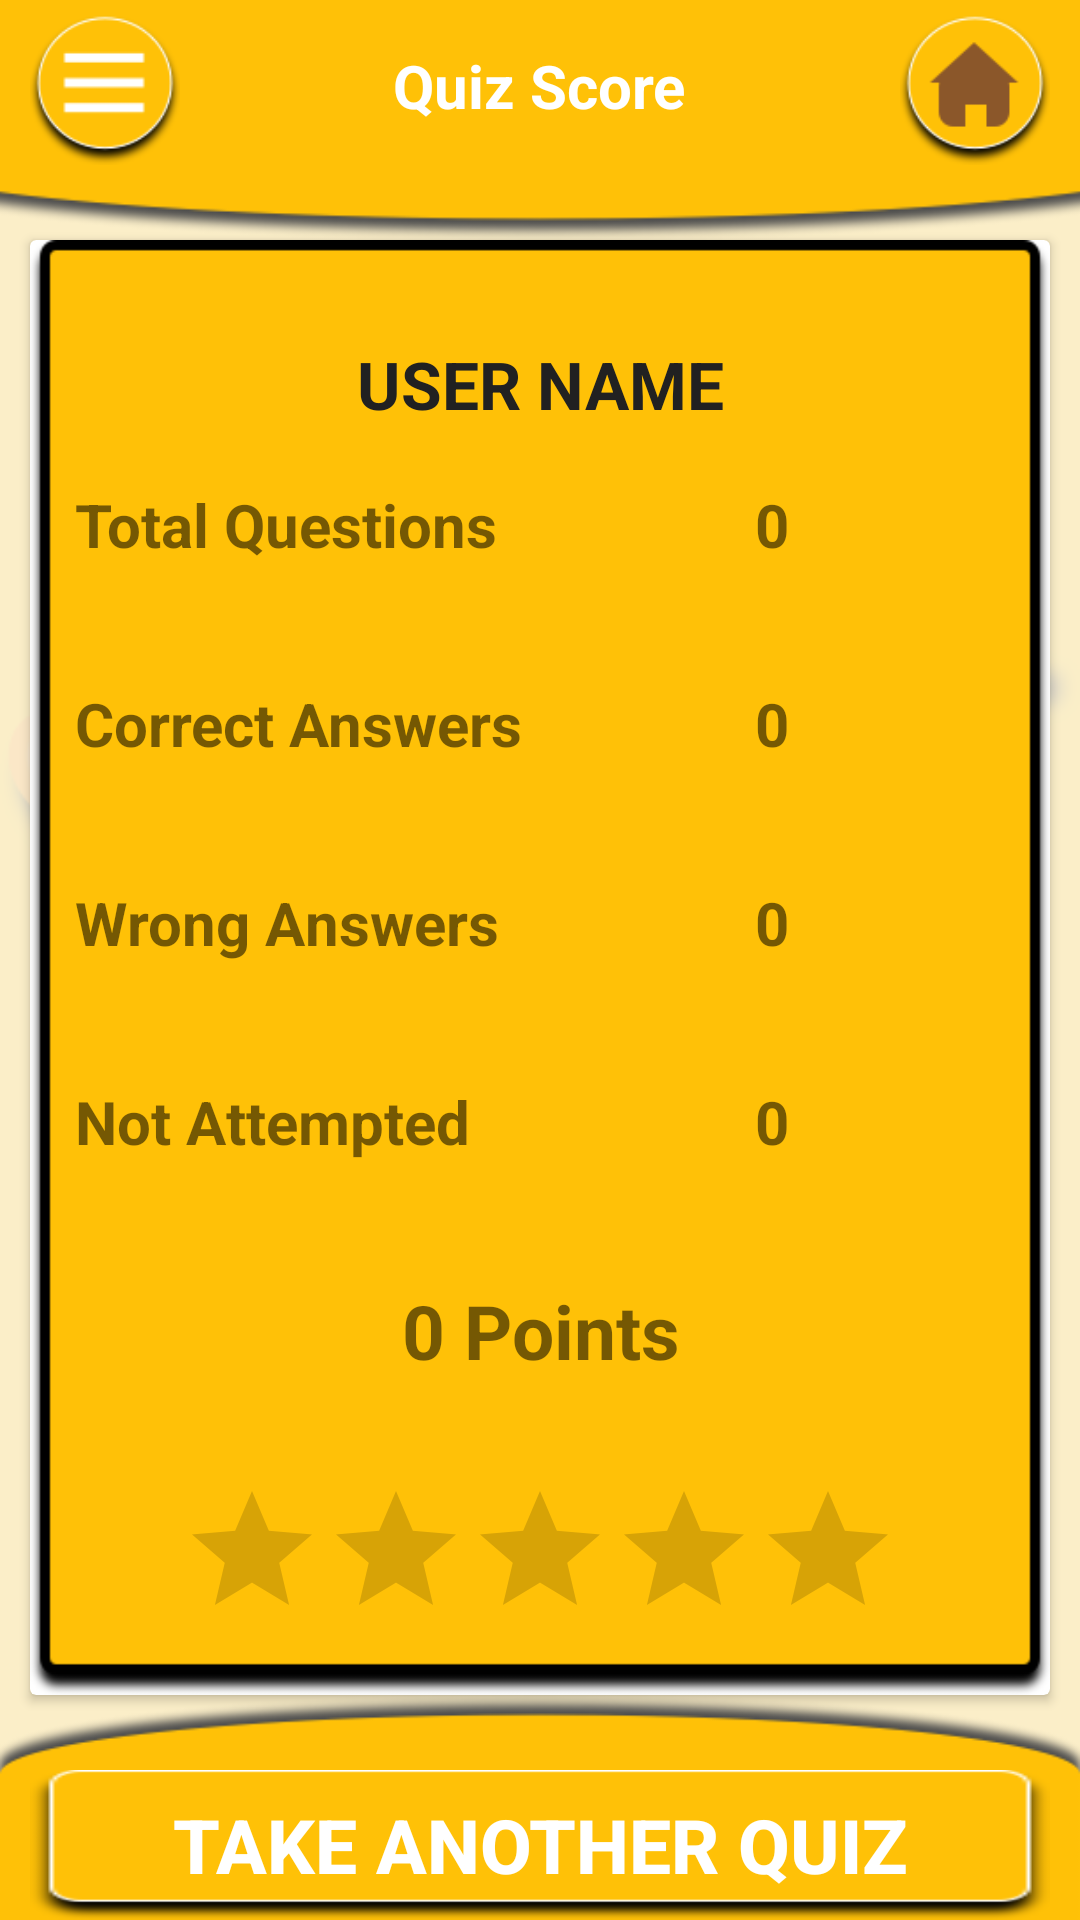

Locate icon controls on the screen. Image size 1080*1920, boxes as (x1, y1, x2, y2).
home brown: (903, 16, 1047, 162)
menubutton: (33, 16, 177, 162)
